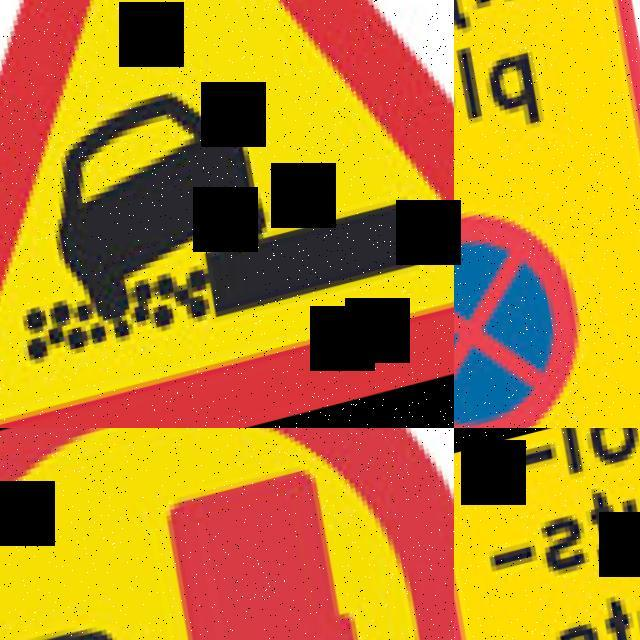161: (0, 0, 454, 428)
177: (454, 0, 640, 428), (454, 428, 640, 640)
34: (0, 428, 454, 640)
Dangerous shoulder: (0, 0, 454, 428)
two way traffic: (0, 0, 454, 428)
